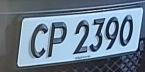0: (119, 10, 134, 48)
2: (71, 16, 91, 55)
3: (90, 14, 105, 55)
9: (105, 12, 120, 53)
C: (28, 19, 50, 62)
P: (47, 18, 69, 61)
